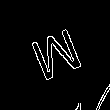M_S: (24, 23, 86, 87)
